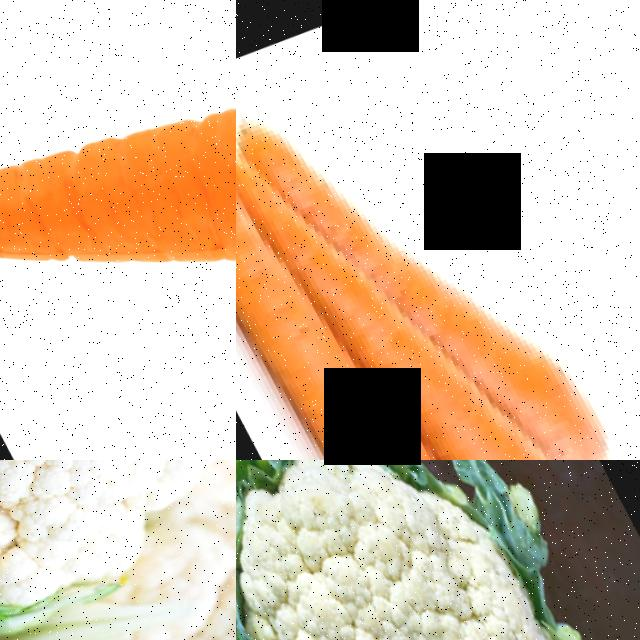carrot: (0, 0, 236, 426), (403, 159, 624, 460), (279, 312, 540, 460), (408, 318, 612, 460)
cauliflower: (236, 460, 640, 640), (0, 460, 236, 640), (0, 486, 236, 640)
